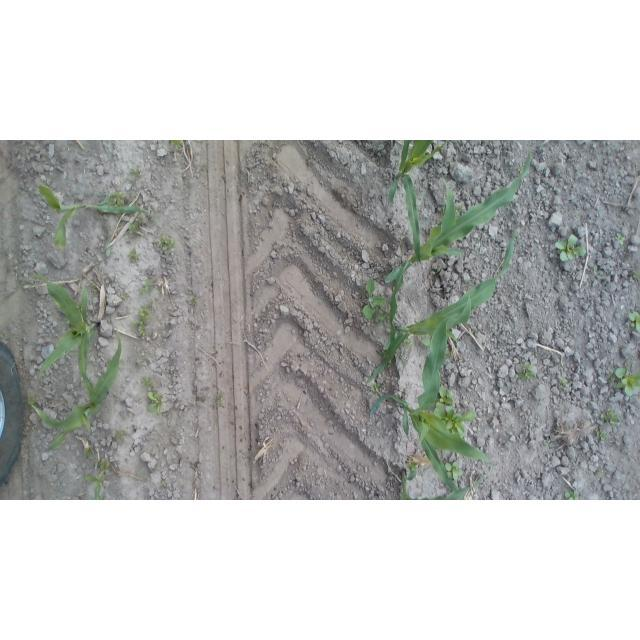Maize: (385, 149, 532, 350), (367, 294, 494, 489), (366, 233, 517, 384), (33, 323, 124, 454), (18, 273, 98, 392), (388, 141, 450, 268), (37, 182, 149, 246), (399, 468, 485, 500), (82, 457, 111, 500)
Weeds: (436, 385, 477, 438), (361, 276, 388, 320), (553, 232, 587, 263), (128, 298, 156, 334), (614, 364, 640, 397), (599, 406, 621, 427), (516, 358, 534, 382), (146, 390, 162, 415), (105, 191, 127, 208), (445, 460, 463, 480), (156, 233, 176, 251), (127, 217, 143, 235), (628, 310, 640, 333), (139, 278, 155, 294), (377, 309, 389, 326), (595, 428, 610, 441), (128, 246, 140, 262), (94, 459, 111, 470), (115, 429, 127, 444), (564, 490, 581, 500), (214, 392, 224, 408), (558, 376, 570, 389), (83, 446, 96, 458), (141, 376, 154, 388), (615, 231, 626, 245), (136, 358, 151, 368), (593, 264, 603, 278), (371, 380, 381, 393), (28, 394, 38, 406), (170, 140, 182, 150), (129, 167, 141, 176), (404, 339, 414, 349), (120, 291, 130, 301), (607, 371, 616, 382), (89, 283, 98, 293), (422, 338, 430, 349), (632, 271, 640, 282), (456, 204, 464, 213), (190, 296, 199, 304), (574, 209, 582, 217), (432, 268, 441, 275), (161, 480, 168, 489), (598, 470, 606, 476), (386, 363, 392, 370), (517, 165, 523, 172), (545, 439, 551, 446), (449, 350, 454, 358)
